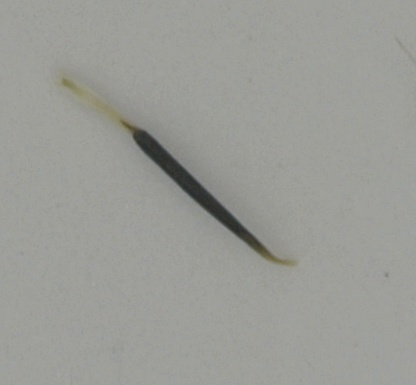เมล็ดดีเรียวยาว: (49, 74, 305, 273)
